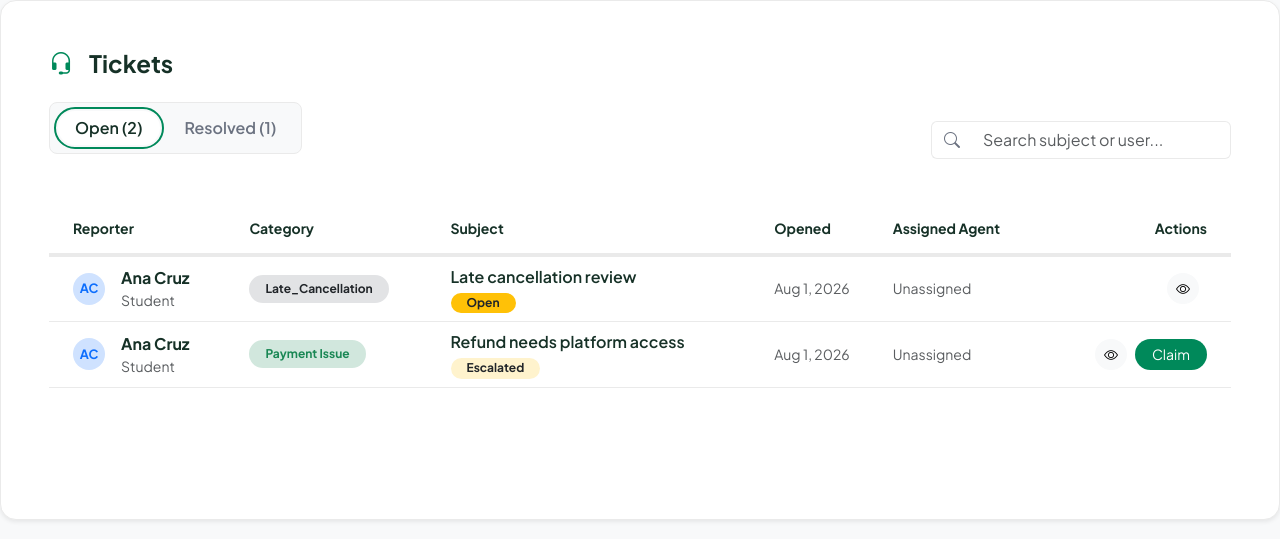
Test case: AdminSupport › SuperAdmin desk › still filters the Resolved tab to resolved tickets only
Click the button with class "filter-tab" showing "Resolved (1)".
click(230, 128)  # box [168,111,293,145]
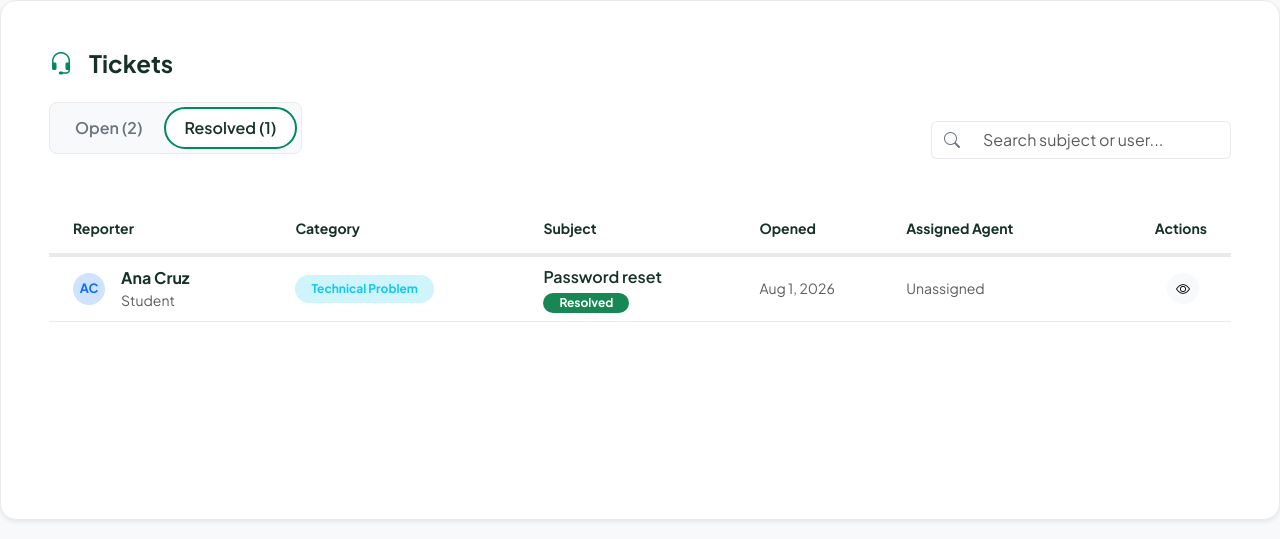
Expected: the text "Password reset" is shown, [543,266,662,287]
